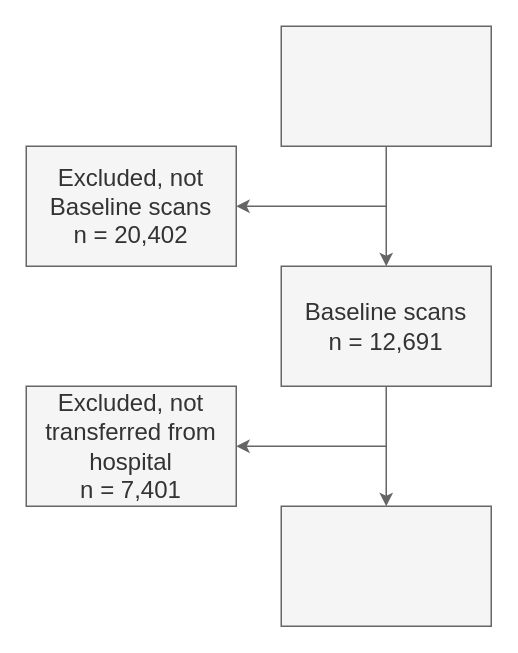
Image size: 518x653. Some labels were removed from this diagram. The centre of each missing label's shape, as x and y in pixels:
All SUMMIT Scans n = 33,093: point (385, 85)
Final SUMMIT dataset n = 5,290: point (385, 565)
